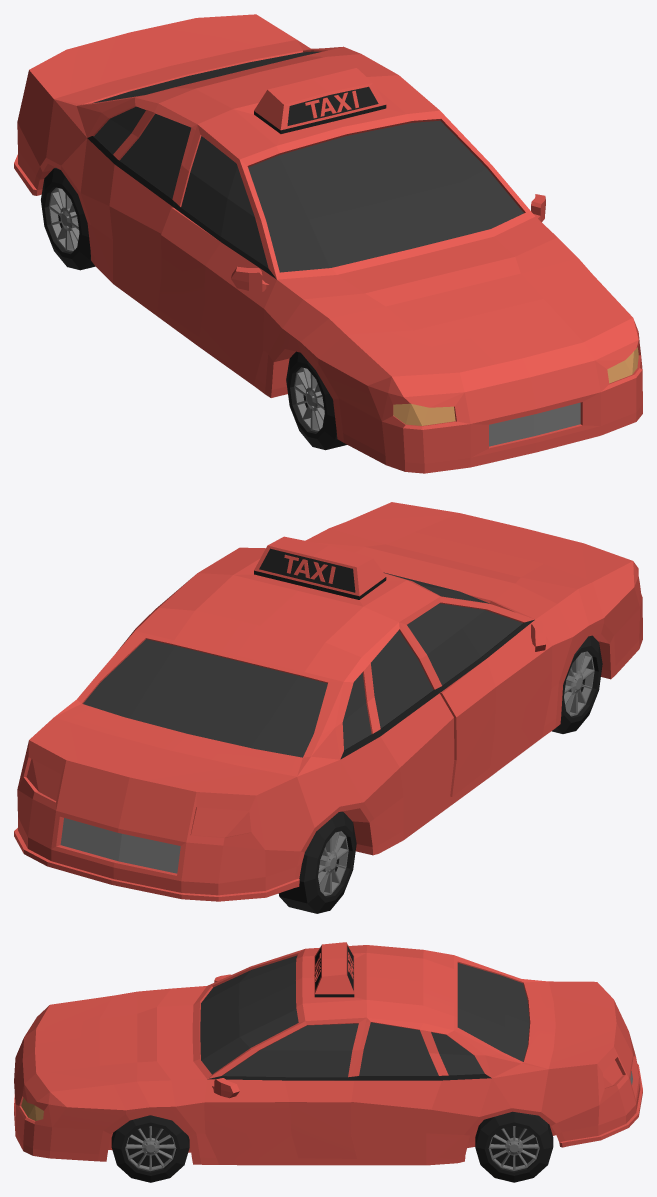
The model's file is Taxi.fbx.
The picture shows the model from 3 angles, top to bottom: view 1: azimuth 30°, elevation 25°; view 2: azimuth 150°, elevation 25°; view 3: azimuth 270°, elevation 25°; orthographic projection. The views are drawn at different scales.
Visible parts, largest first — view 1: Taxi, Taxi_BackWheels, Taxi_FrontRightWheel; view 2: Taxi, Taxi_BackWheels, Taxi_FrontRightWheel; view 3: Taxi, Taxi_BackWheels, Taxi_FrontLeftWheel.
Part boxes in pixels (box(x1,y1,x2,y2)): Taxi: box(14, 14, 642, 473); Taxi_BackWheels: box(41, 168, 95, 270); Taxi_FrontRightWheel: box(286, 351, 346, 450); Taxi: box(14, 502, 642, 901); Taxi_BackWheels: box(278, 811, 356, 913); Taxi_FrontRightWheel: box(552, 635, 602, 733); Taxi: box(14, 942, 642, 1165); Taxi_BackWheels: box(475, 1111, 553, 1182); Taxi_FrontLeftWheel: box(111, 1115, 189, 1182).
Size of the model in its own units: 0.1059 by 0.0768 by 0.2474.
